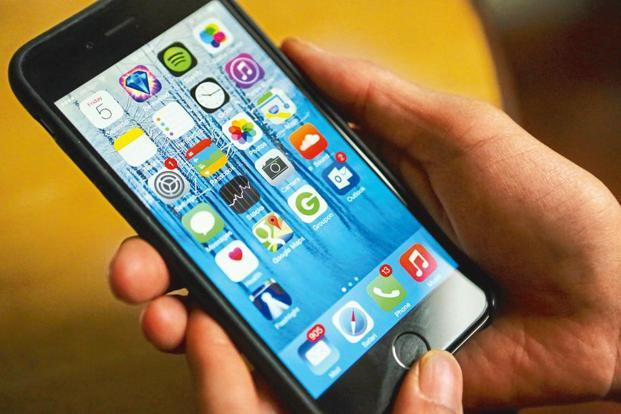mobile: (2, 2, 498, 414)
